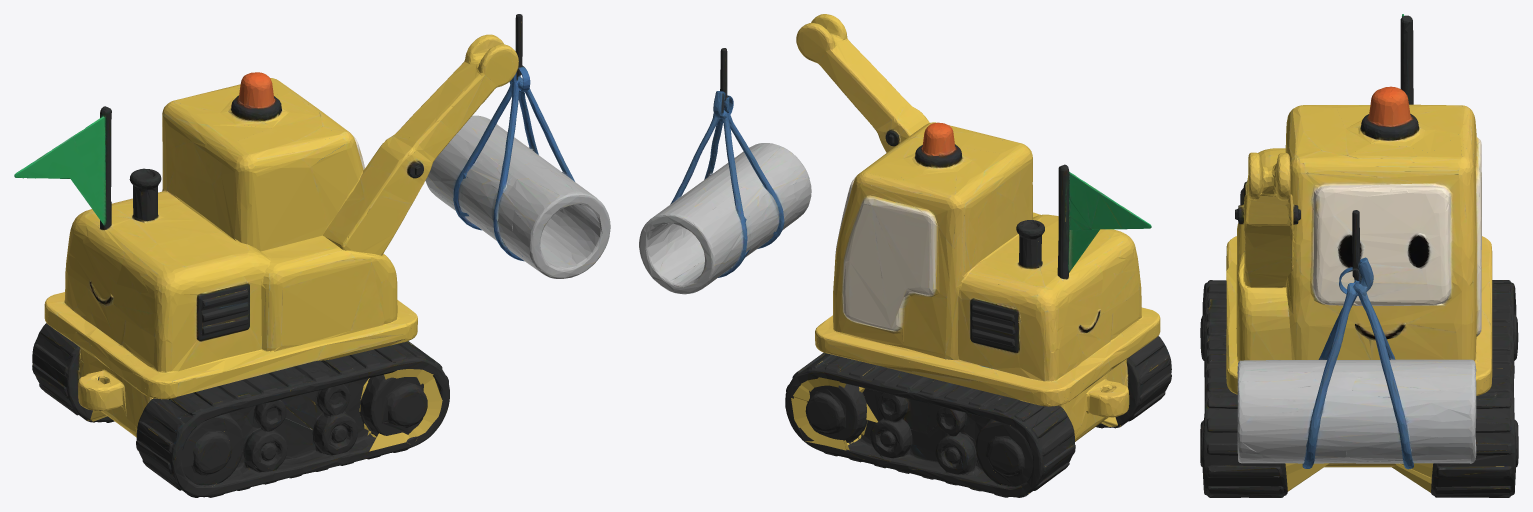
File: pipelayer_v1.glb
3 views of the same model, side by side, from view 1: azimuth 30°, elevation 25°; view 2: azimuth 150°, elevation 25°; view 3: azimuth 270°, elevation 25° (orthographic). The views are drawn at different scales.
Visible parts, largest first — view 1: house_mesh, tracks_mesh, load_mesh, wheelR_mesh, beacon_mesh, boom_mesh, wheelF_mesh, flag_mesh; view 2: house_mesh, tracks_mesh, load_mesh, wheelR_mesh, boom_mesh, beacon_mesh, wheelF_mesh, flag_mesh; view 3: house_mesh, load_mesh, tracks_mesh, beacon_mesh, boom_mesh, wheelF_mesh, wheelR_mesh.
Boxes of the visible parts, x1=… form: house_mesh: x1=44, y1=76, x2=534, y2=396; tracks_mesh: x1=44, y1=309, x2=449, y2=497; load_mesh: x1=427, y1=14, x2=610, y2=278; wheelR_mesh: x1=32, y1=323, x2=233, y2=496; beacon_mesh: x1=174, y1=72, x2=344, y2=167; boom_mesh: x1=399, y1=34, x2=518, y2=185; wheelF_mesh: x1=359, y1=374, x2=442, y2=445; flag_mesh: x1=14, y1=135, x2=74, y2=178; house_mesh: x1=709, y1=102, x2=1160, y2=402; tracks_mesh: x1=785, y1=325, x2=1160, y2=497; load_mesh: x1=639, y1=48, x2=808, y2=294; wheelR_mesh: x1=987, y1=336, x2=1171, y2=496; boom_mesh: x1=796, y1=14, x2=910, y2=152; beacon_mesh: x1=866, y1=122, x2=1013, y2=212; wheelF_mesh: x1=805, y1=384, x2=867, y2=443; flag_mesh: x1=1091, y1=189, x2=1151, y2=229; house_mesh: x1=1226, y1=15, x2=1492, y2=390; load_mesh: x1=1237, y1=210, x2=1476, y2=469; tracks_mesh: x1=1202, y1=280, x2=1516, y2=497; beacon_mesh: x1=1285, y1=87, x2=1480, y2=161; boom_mesh: x1=1238, y1=152, x2=1298, y2=250; wheelF_mesh: x1=1200, y1=420, x2=1518, y2=467; wheelR_mesh: x1=1200, y1=285, x2=1518, y2=375.
Size of the model in its own units: 2.8 by 1.84 by 1.33.
1 material, 1 textured.
